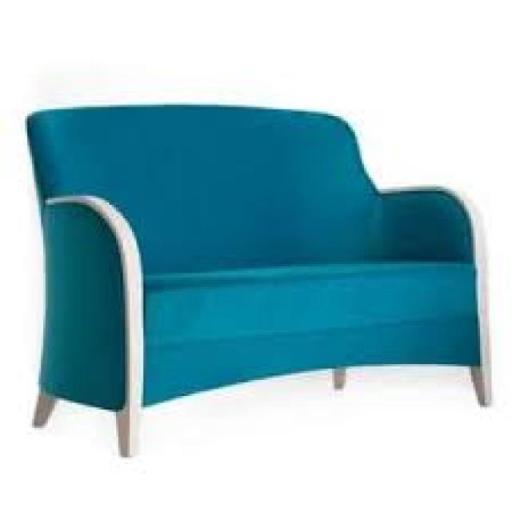sofa: (13, 51, 504, 480)
